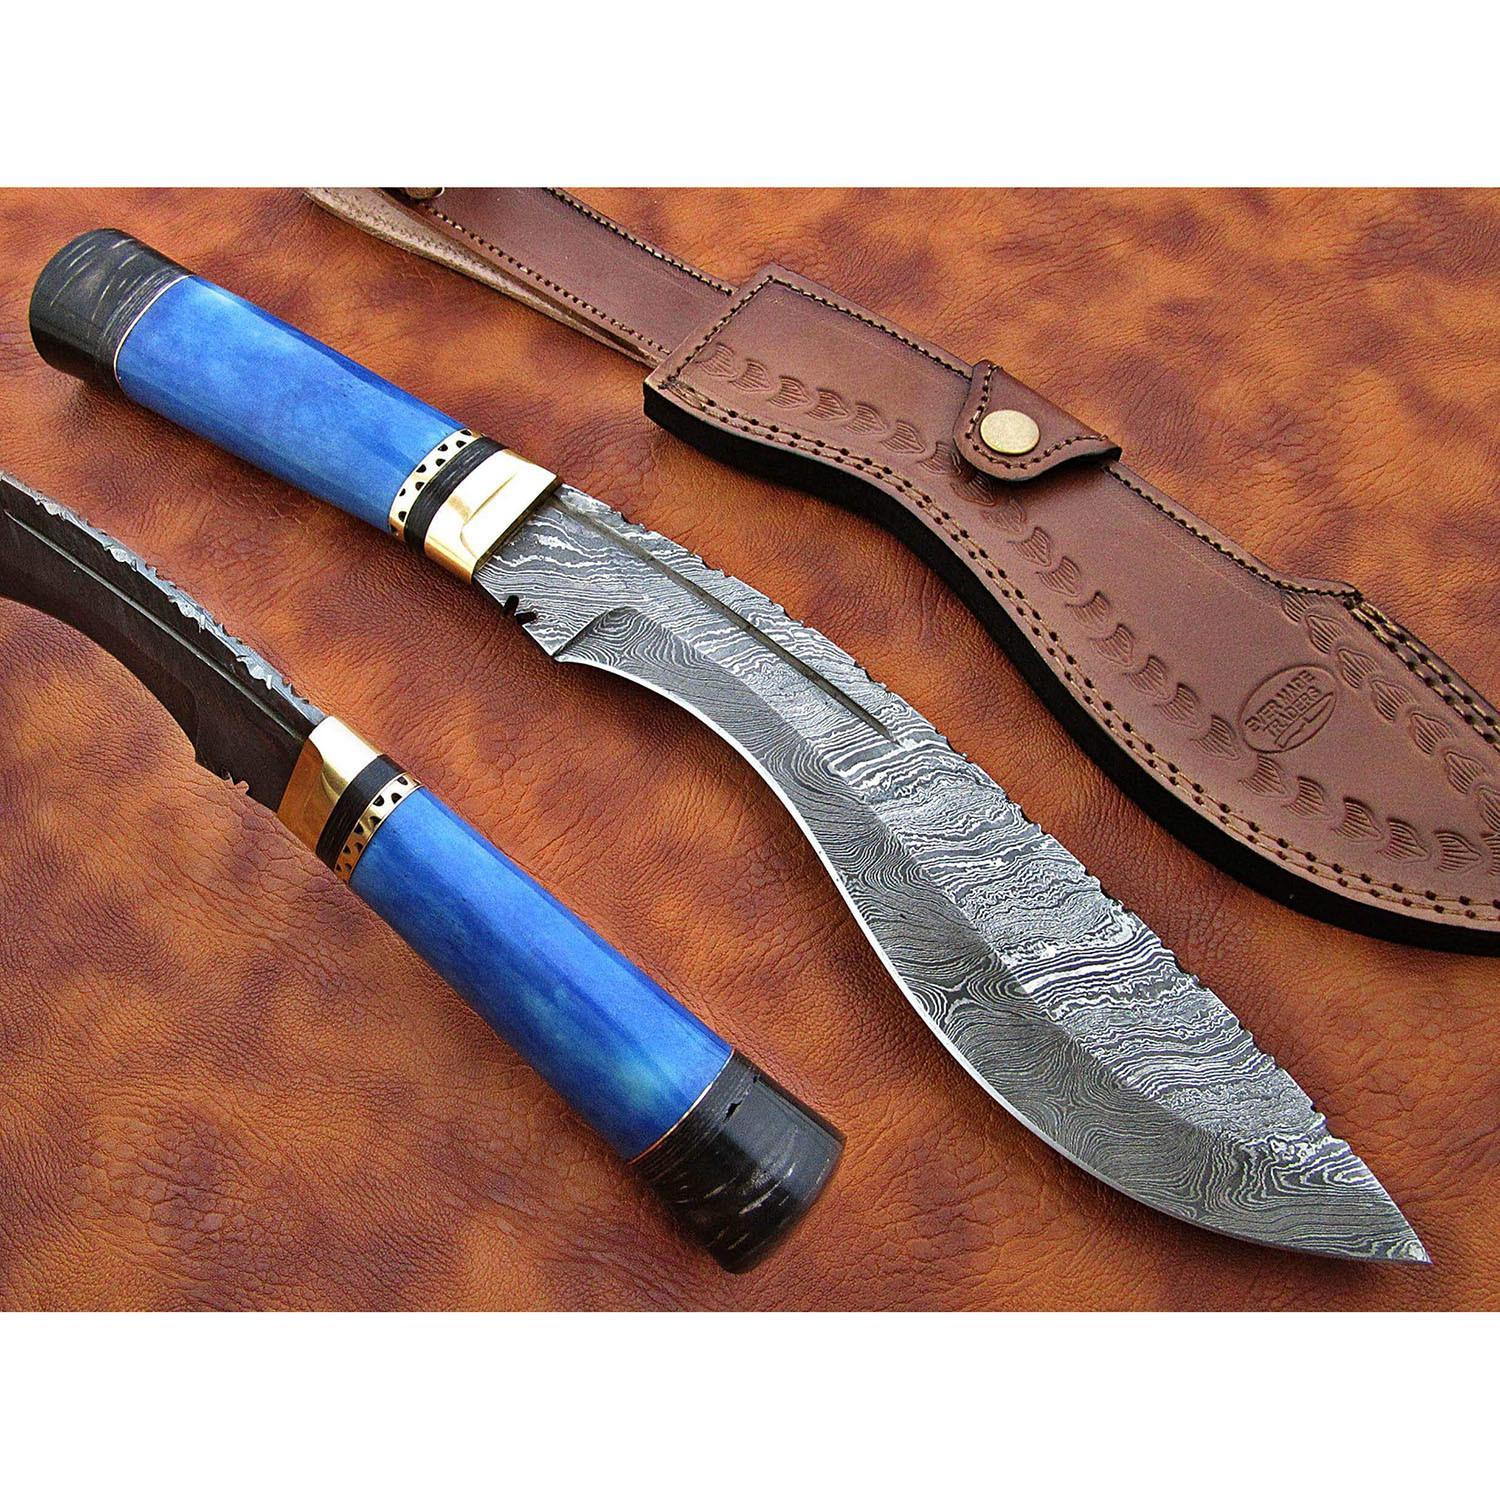facao: (30, 229, 1427, 1260)
